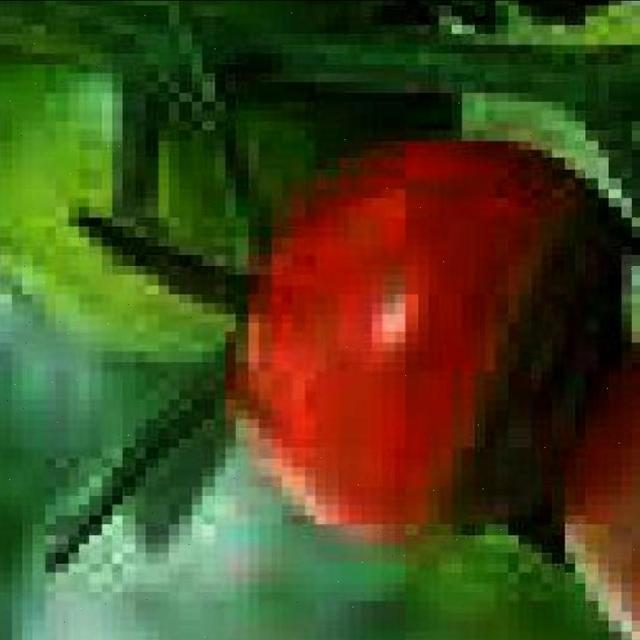Blossom End Rot Fruit: (283, 129, 426, 364)
